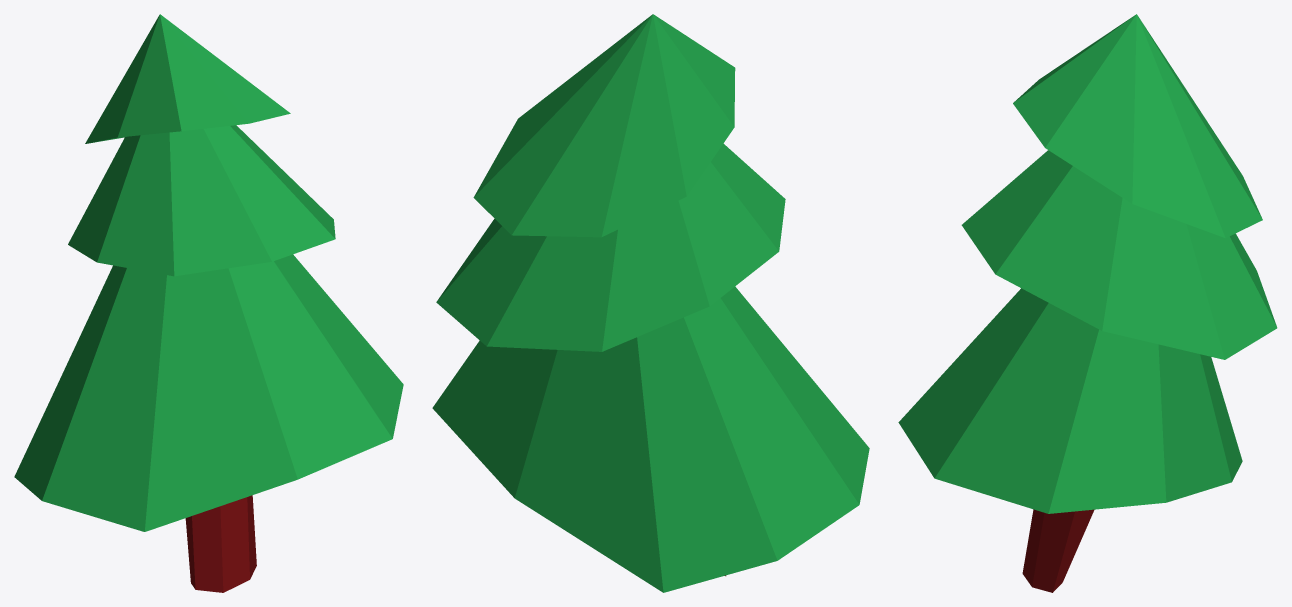
File: pinetree003.fbx
The picture shows the model from 3 angles, left to right: view 1: azimuth 30°, elevation 25°; view 2: azimuth 150°, elevation 25°; view 3: azimuth 270°, elevation 25°; orthographic projection. The views are drawn at different scales.
Parts seen in each view (by area): view 1: Original pinetree; view 2: Original pinetree; view 3: Original pinetree.
Part boxes in pixels (x1,y1,x2,y2): Original pinetree: (14,14,403,592); Original pinetree: (432,14,869,592); Original pinetree: (898,14,1277,592).
Bounding box in the file's own units: 766 × 1124 × 695.
